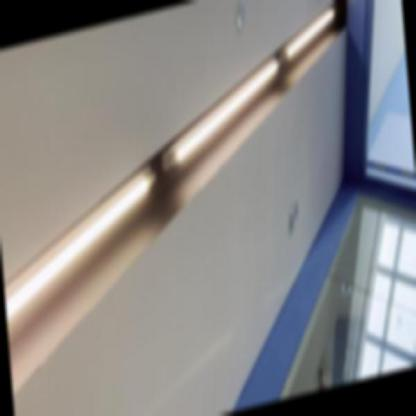light_on: (0, 154, 165, 333), (161, 48, 288, 199), (275, 0, 345, 69)
